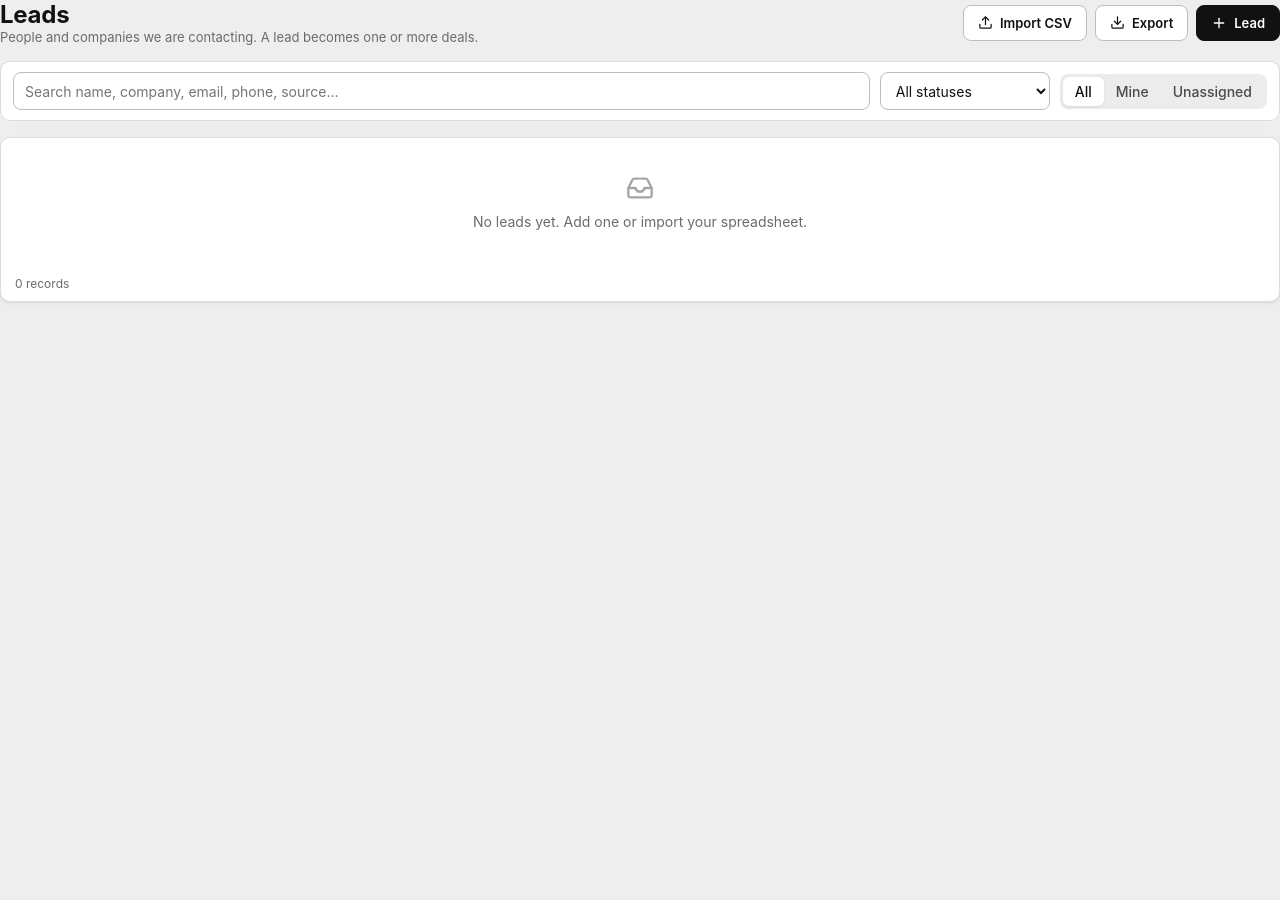
it: creating a lead › shows field errors the server returns
Click the button "Lead" at coordinates (1238, 22), box [1196,4,1279,40]
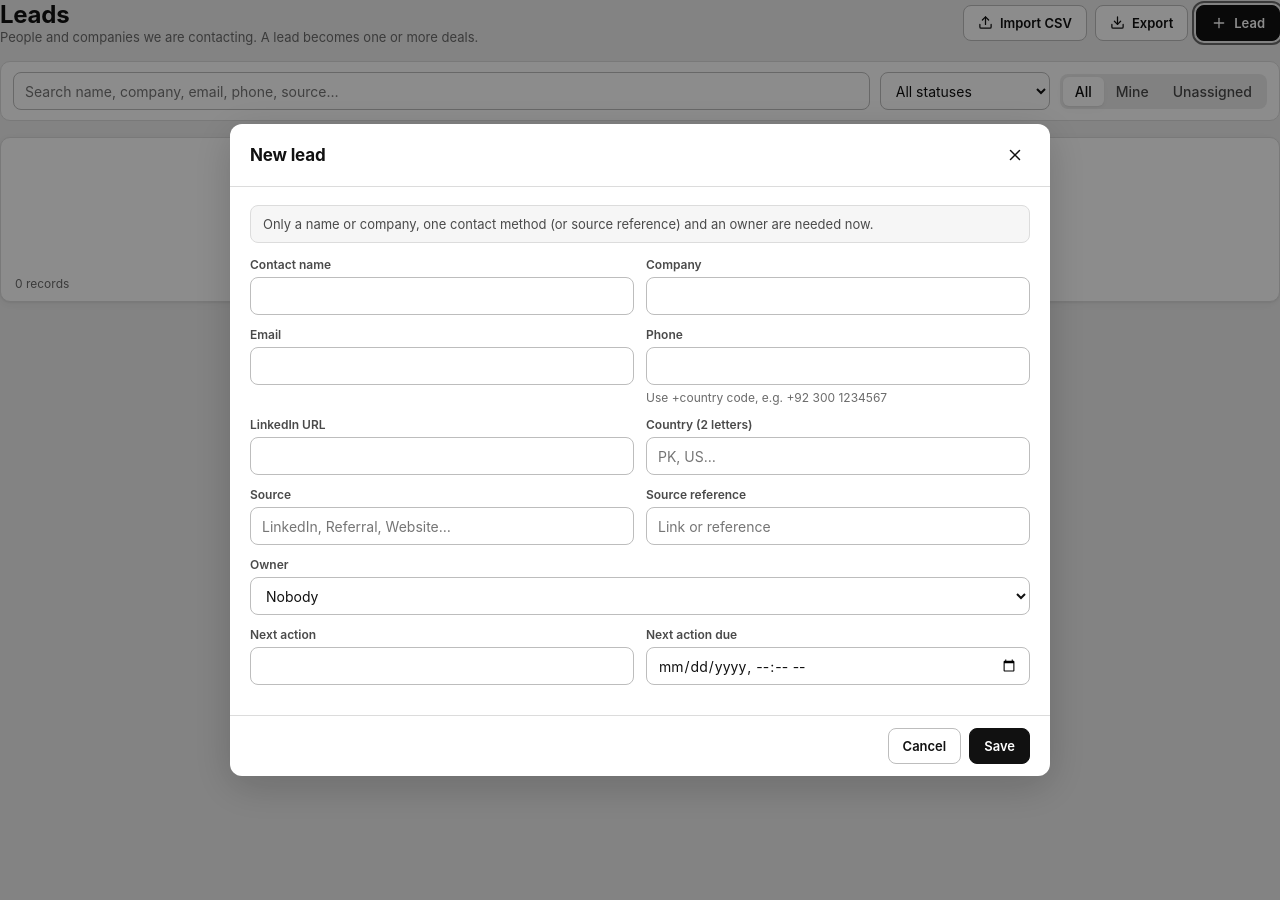
Type "No Contact Co" into the field labelled "Company" at coordinates (838, 296), box [646,277,1030,315]
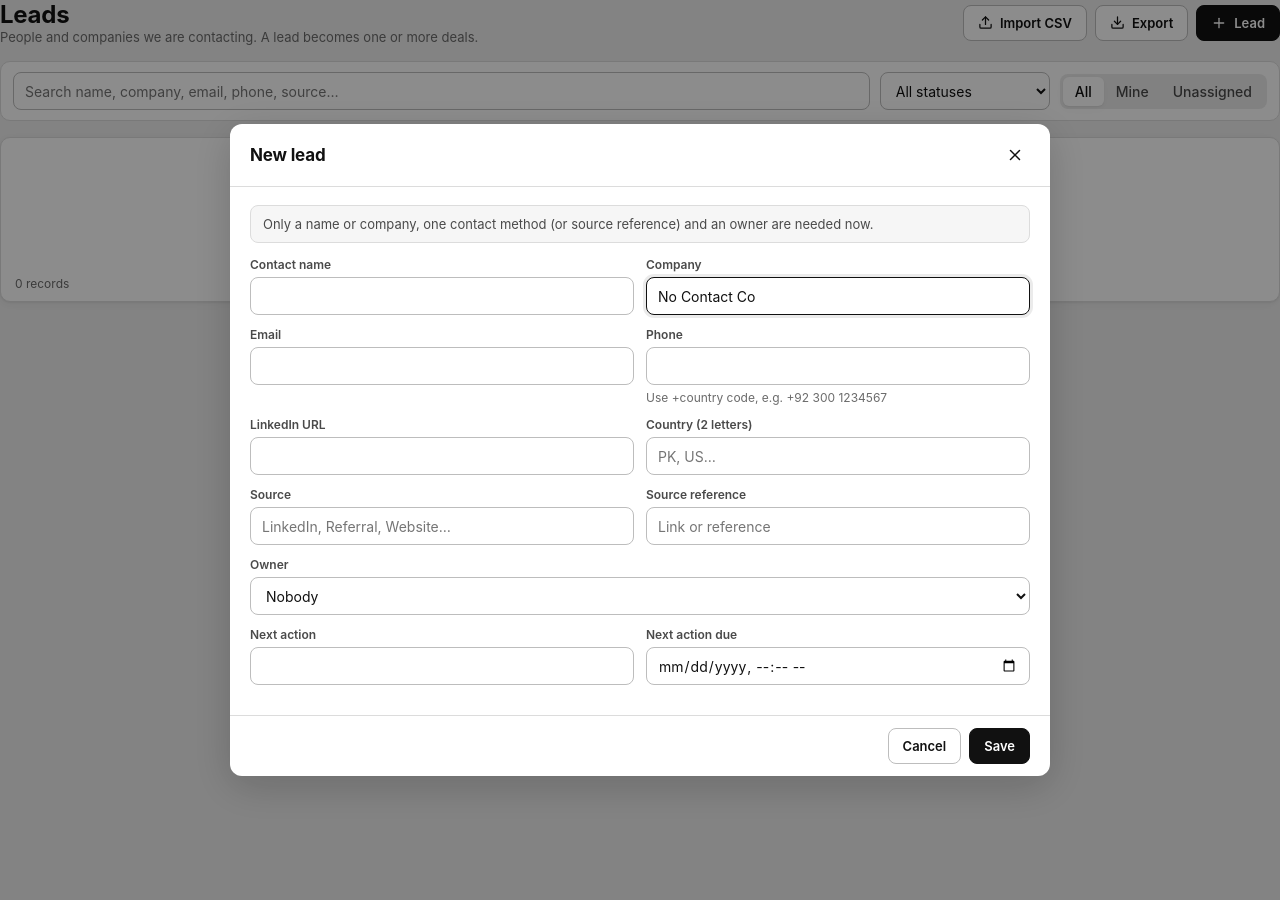
Click the button "Save" at coordinates (1000, 746), box [969,728,1030,764]
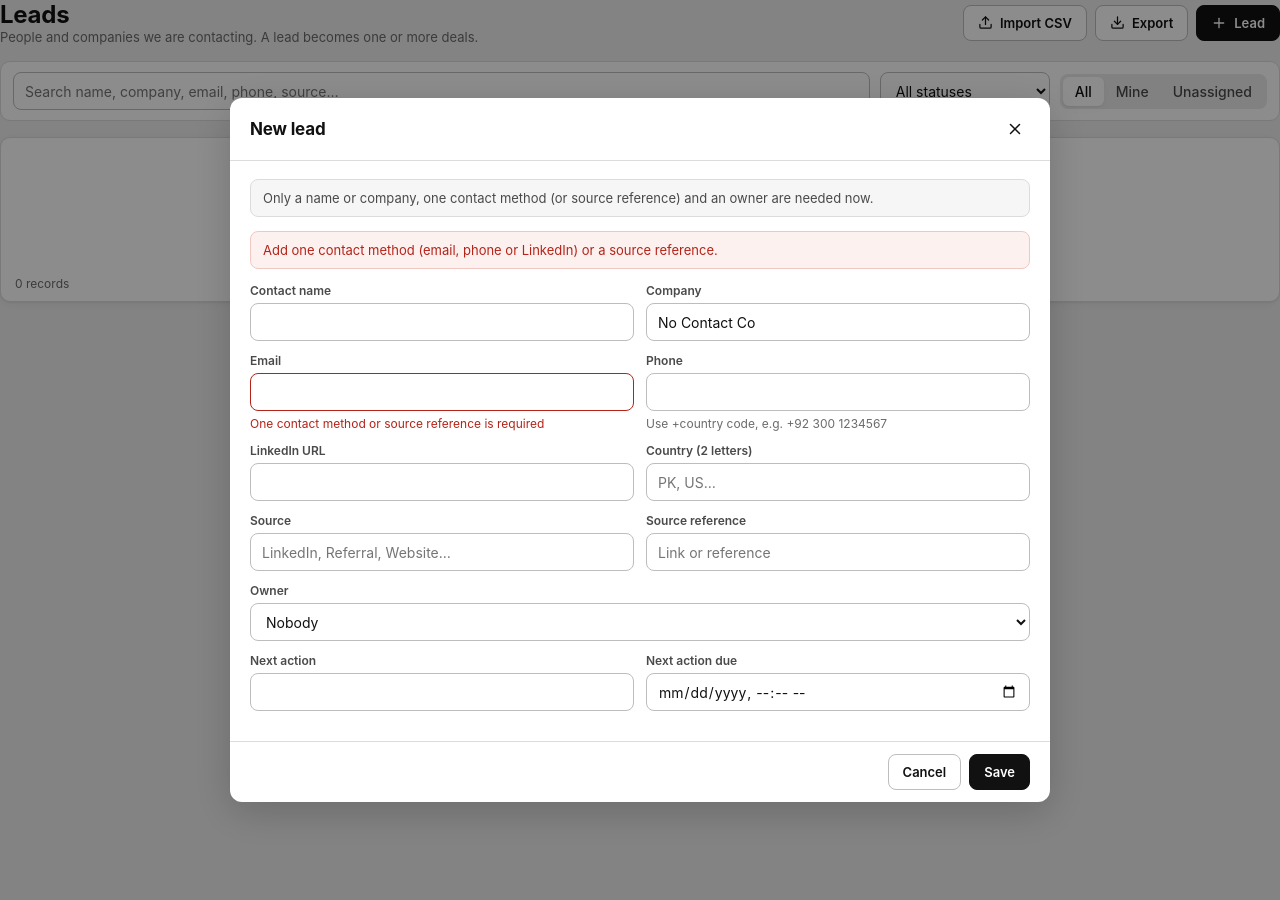
Expected: the text "One contact method or source reference is required" is shown, [250,416,544,431]
